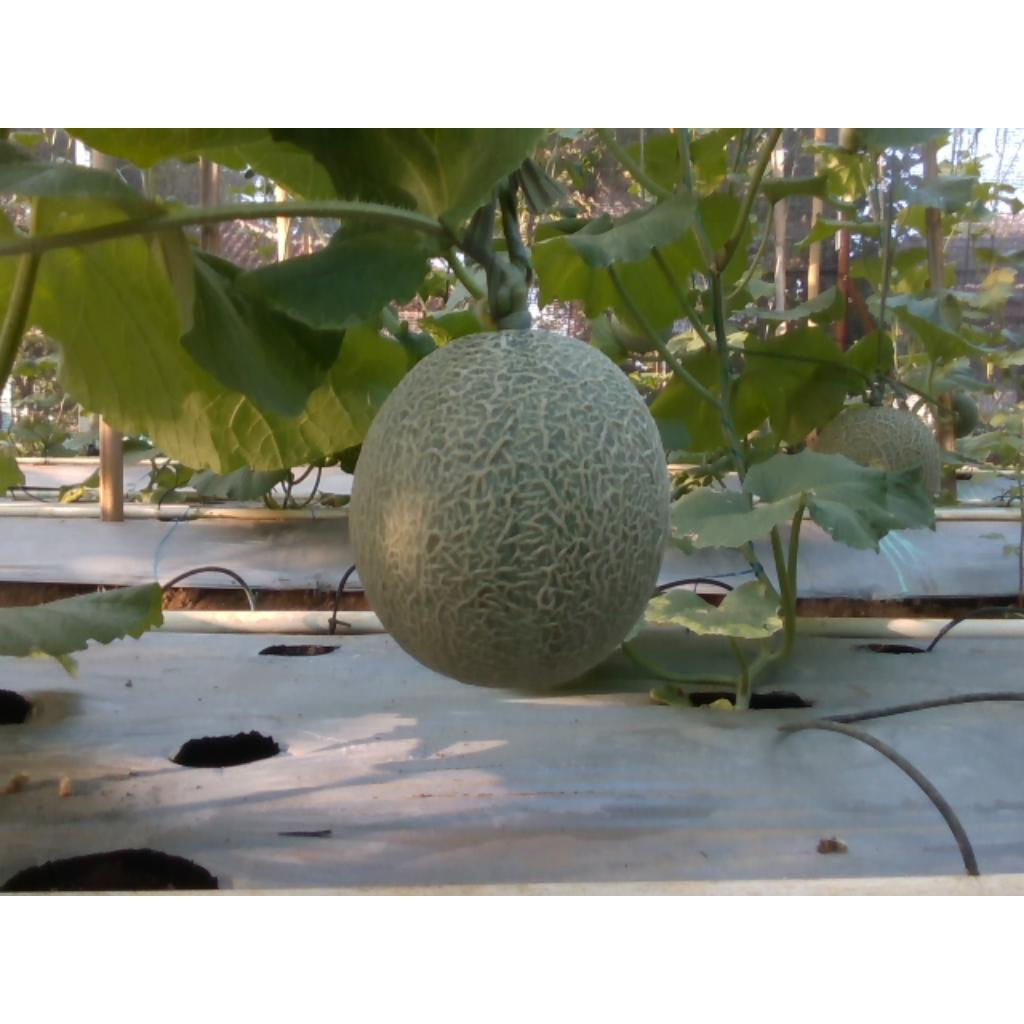melon: (350, 330, 670, 689)
